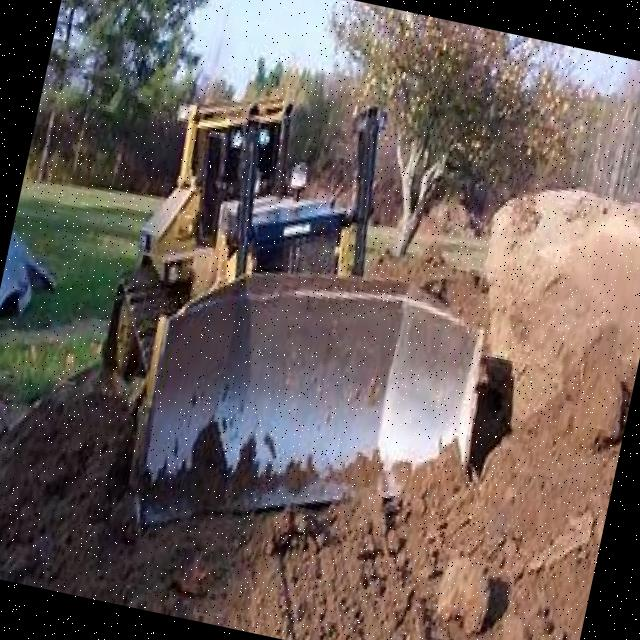Bulldozer: (56, 47, 562, 595)
